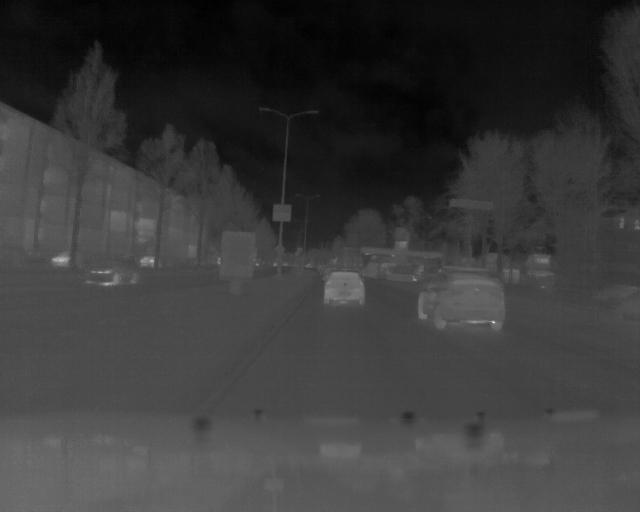car: (413, 264, 506, 335), (322, 268, 366, 312), (84, 256, 139, 287)
